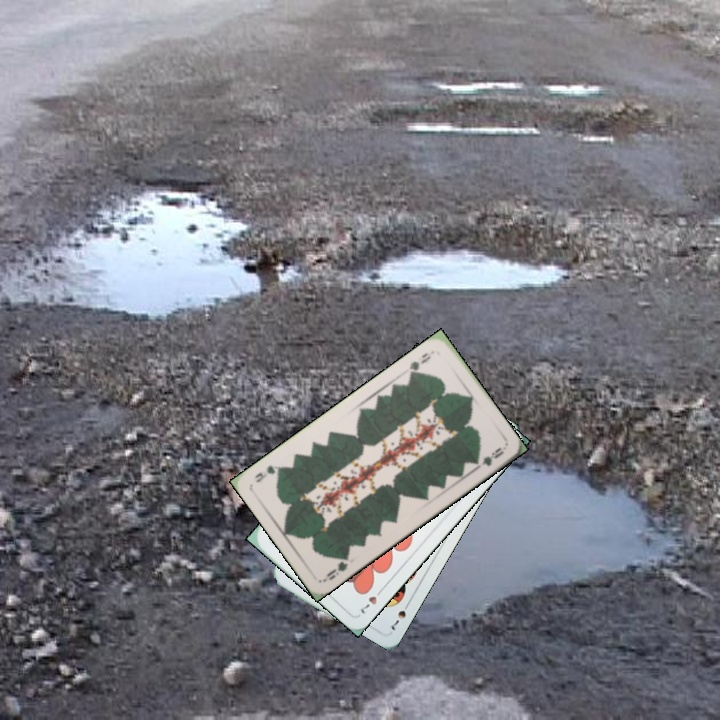G9: (405, 347, 437, 379), (320, 551, 351, 584)
H7: (356, 583, 386, 617)
S7: (387, 597, 413, 633)
